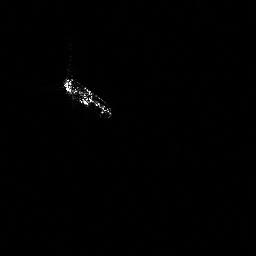ship: (57, 73, 117, 122)
